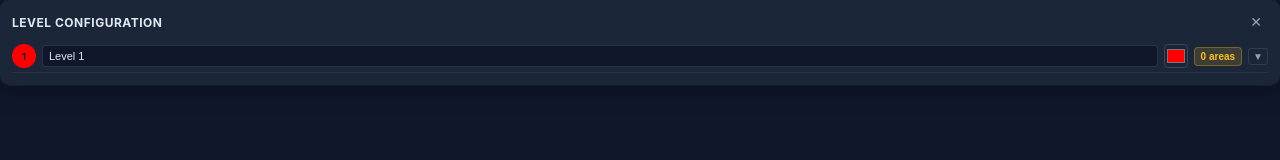
Test: LevelConfigPanel › Interactions › should show area checkboxes when scope is specific and expanded
Note: Click expand button
Click the button titled "Select areas".
click(1258, 56)  # box [1248,48,1268,64]
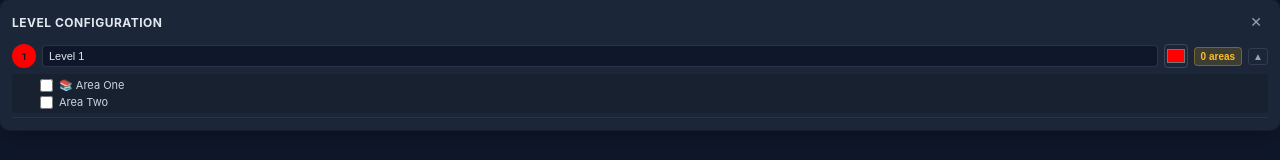
Expected: the text "📚 Area One" is shown, [59,78,124,92]
Expected: the text "Area Two" is shown, [59,95,108,109]
